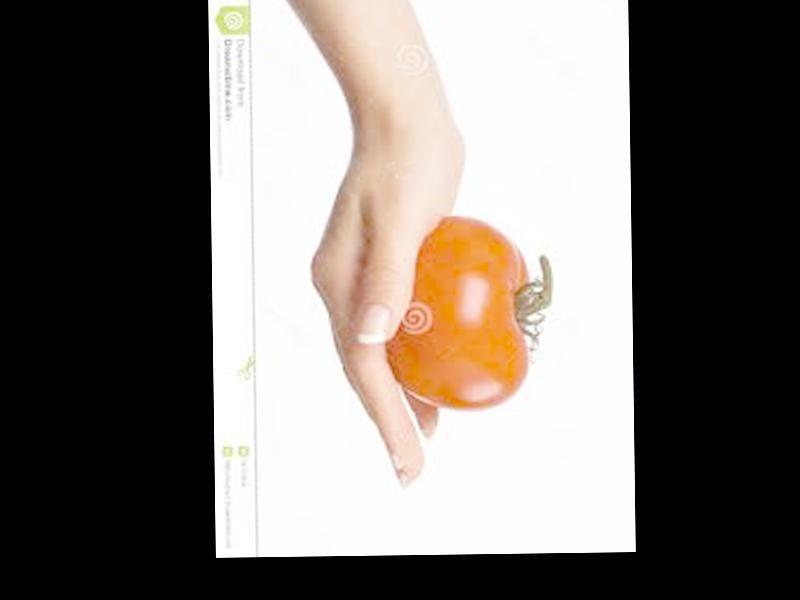Tomato: (385, 215, 530, 411)
